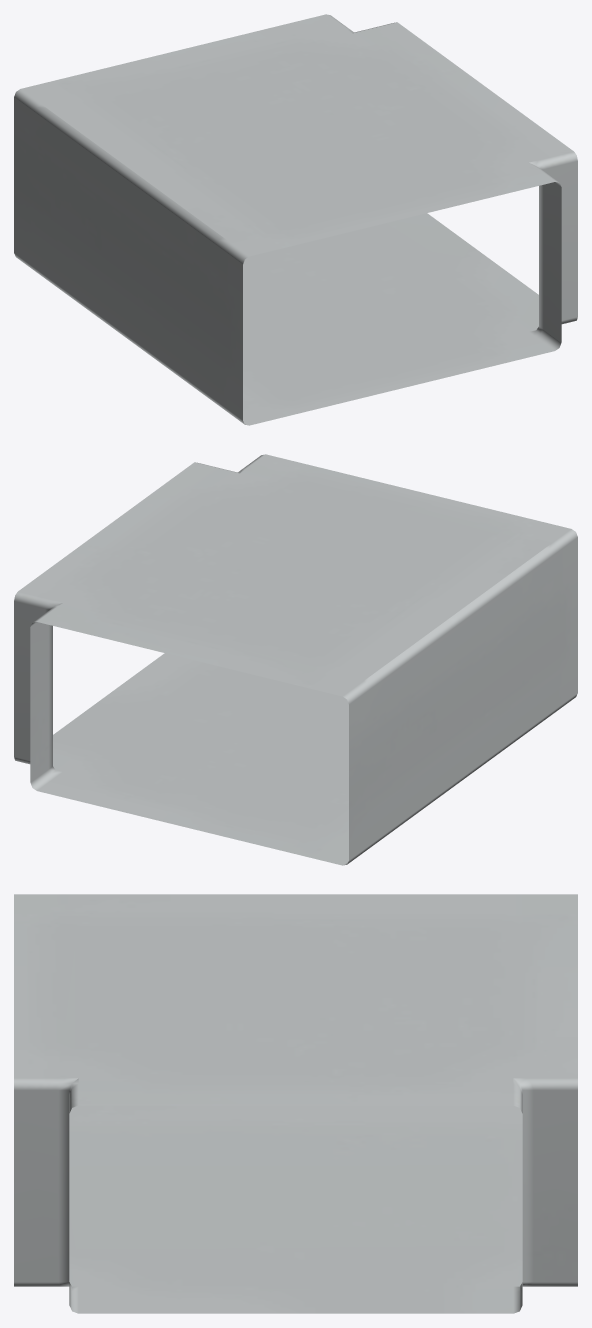
The model's file is tee.gltf.
3 views of the same model, one above another, from view 1: azimuth 30°, elevation 25°; view 2: azimuth 150°, elevation 25°; view 3: azimuth 270°, elevation 25° (orthographic). The views are drawn at different scales.
Visible parts, largest first — view 1: tee; view 2: tee; view 3: tee.
Part boxes in pixels (x1,y1,x2,y2): tee: (14, 14, 577, 425); tee: (14, 454, 577, 865); tee: (14, 894, 577, 1313).
Size of the model in its own units: 0.8496 by 0.384 by 0.9422.
1 material, 1 textured.
